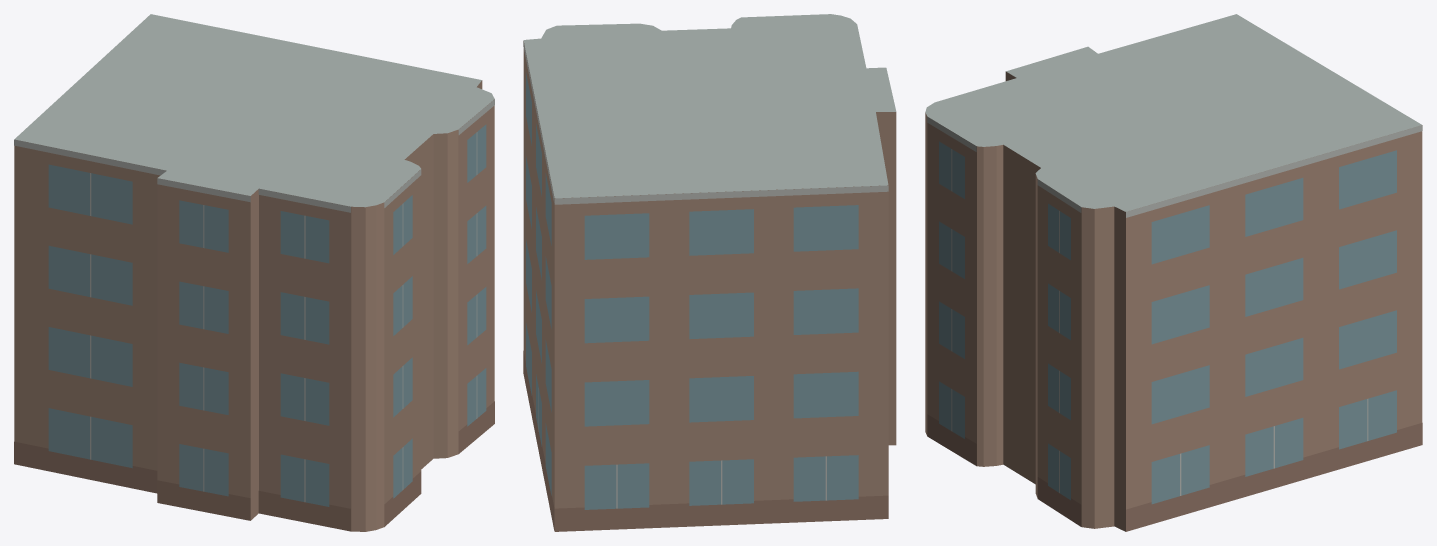
File: survey-upis-33004094.glb
The picture shows the model from 3 angles, left to right: view 1: azimuth 30°, elevation 25°; view 2: azimuth 150°, elevation 25°; view 3: azimuth 270°, elevation 25°; orthographic projection. The views are drawn at different scales.
Parts seen in each view (by area): view 1: survey-upis-33004094.tmp; view 2: survey-upis-33004094.tmp; view 3: survey-upis-33004094.tmp.
Part boxes in pixels (bbox=[...]): survey-upis-33004094.tmp: bbox=[14, 14, 494, 531]; survey-upis-33004094.tmp: bbox=[523, 14, 896, 531]; survey-upis-33004094.tmp: bbox=[925, 14, 1422, 531].
Size of the model in its own units: 16.99 by 12.8 by 18.03.
